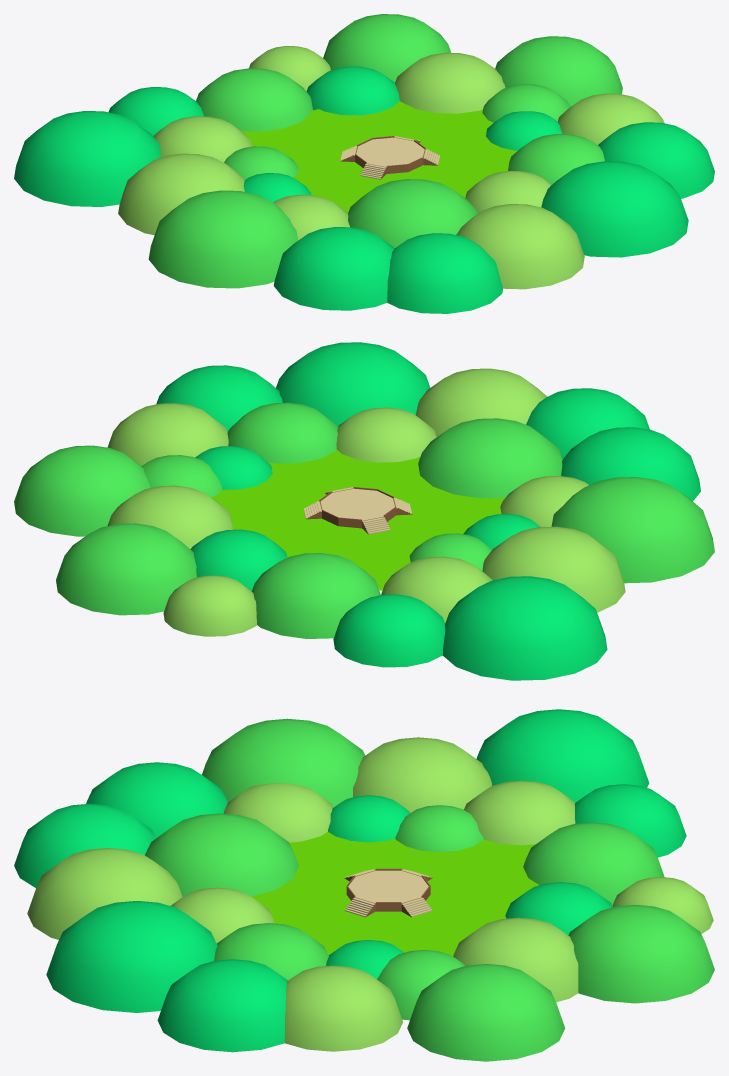
The model's file is Simulator Arena.fbx.
3 views of the same model, one above another, from view 1: azimuth 30°, elevation 25°; view 2: azimuth 150°, elevation 25°; view 3: azimuth 270°, elevation 25° (orthographic). The views are drawn at different scales.
Visible parts, largest first — view 1: Plane, Sphere.018, Sphere.023, Sphere.015, Sphere.016, Sphere.024, Sphere.022, Sphere.005, Sphere.017, Sphere.019, Sphere.012, Sphere.011 (+16 smaller); view 2: Plane, Sphere.023, Sphere.018, Sphere.011, Sphere.017, Sphere.005, Sphere.015, Sphere.012, Sphere.019, Sphere.009, Sphere.016, Sphere.022 (+16 smaller); view 3: Plane, Sphere.015, Sphere.017, Sphere.011, Sphere.023, Sphere.020, Sphere.018, Sphere.005, Sphere.008, Sphere.022, Sphere.019, Sphere.012 (+16 smaller).
Boxes of the visible parts, x1=… form: Plane: x1=241, y1=101, x2=517, y2=213; Sphere.018: x1=148, y1=190, x2=297, y2=288; Sphere.023: x1=14, y1=111, x2=160, y2=206; Sphere.015: x1=541, y1=161, x2=688, y2=257; Sphere.016: x1=273, y1=227, x2=394, y2=310; Sphere.024: x1=387, y1=233, x2=502, y2=313; Sphere.022: x1=456, y1=204, x2=584, y2=289; Sphere.005: x1=348, y1=179, x2=477, y2=248; Sphere.017: x1=495, y1=36, x2=622, y2=106; Sphere.019: x1=118, y1=153, x2=244, y2=235; Sphere.012: x1=196, y1=68, x2=312, y2=131; Sphere.011: x1=323, y1=14, x2=451, y2=82; Plane: x1=211, y1=449, x2=504, y2=590; Sphere.023: x1=442, y1=576, x2=607, y2=680; Sphere.018: x1=551, y1=477, x2=714, y2=583; Sphere.011: x1=56, y1=523, x2=196, y2=615; Sphere.017: x1=14, y1=445, x2=150, y2=536; Sphere.005: x1=418, y1=418, x2=562, y2=498; Sphere.015: x1=276, y1=342, x2=430, y2=426; Sphere.012: x1=252, y1=553, x2=380, y2=638; Sphere.019: x1=482, y1=526, x2=625, y2=612; Sphere.009: x1=333, y1=594, x2=445, y2=667; Sphere.016: x1=561, y1=427, x2=700, y2=500; Sphere.022: x1=415, y1=368, x2=547, y2=436; Plane: x1=252, y1=832, x2=538, y2=956; Sphere.015: x1=46, y1=901, x2=217, y2=1012; Sphere.017: x1=407, y1=964, x2=565, y2=1061; Sphere.011: x1=568, y1=904, x2=714, y2=1003; Sphere.023: x1=476, y1=709, x2=649, y2=802; Sphere.020: x1=157, y1=959, x2=287, y2=1052; Sphere.018: x1=202, y1=718, x2=365, y2=807; Sphere.005: x1=145, y1=813, x2=298, y2=896; Sphere.008: x1=284, y1=965, x2=402, y2=1051; Sphere.022: x1=27, y1=848, x2=182, y2=939; Sphere.019: x1=353, y1=737, x2=491, y2=812; Sphere.012: x1=523, y1=822, x2=664, y2=905.
Size of the model in its own units: 1876 by 174 by 1754.
